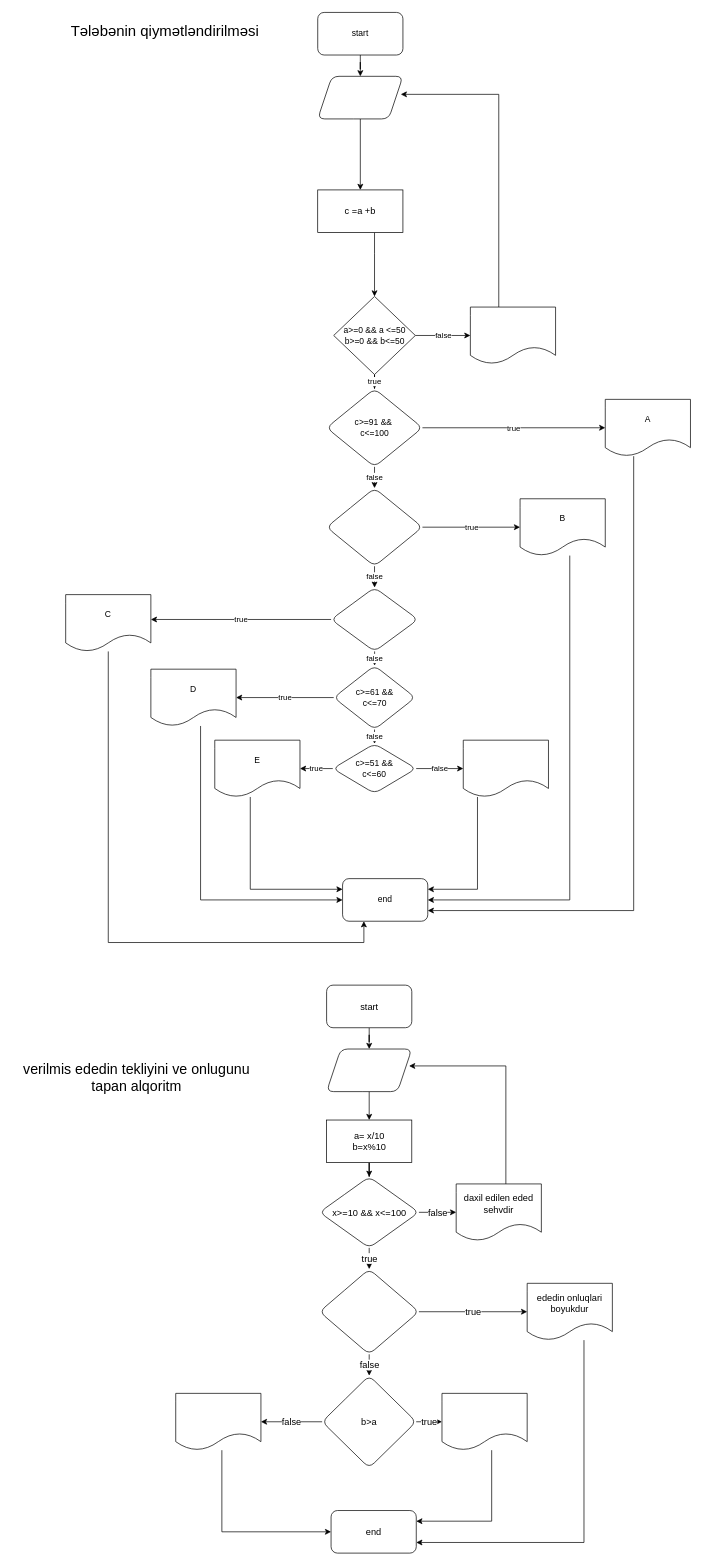
The diagram is 703 pixels wide and 1566 high, and some of its shapes have lost their labels. The centre of each missing label's shape, as x and y in pixels:
"a>b" belongs at point 369,1311.
"c>=71 && c<=80" belongs at point 374,619.
"c>=81 && c<=90" belongs at point 374,526.
"eded :x ededin onlugu :a ededin tekliyi:b" belongs at point 369,1070.
"giris bali -a cixis bali -b netice -c" belongs at point 360,97.
"Kesr" belongs at point 505,768.
"teklik ve onluq beraberdir" belongs at point 218,1421.
"teklikler boyukdur" belongs at point 484,1421.
"verilenleri yoxlayin ve yeniden daxil edin" belongs at point 513,335.
